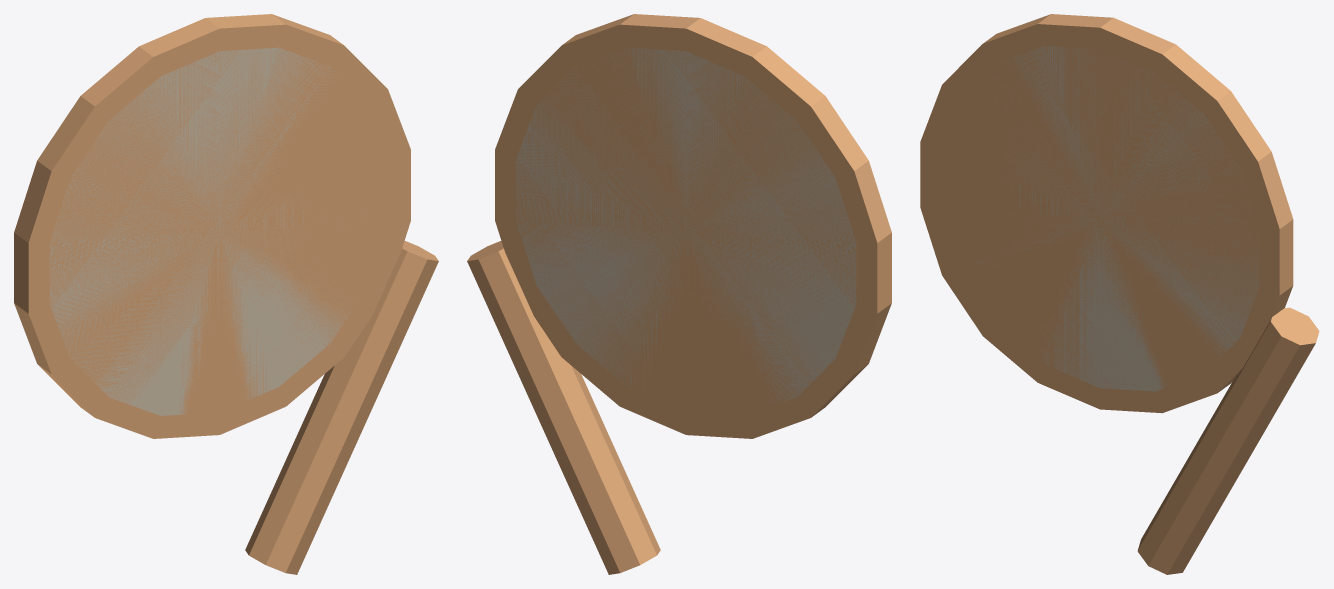
File: surveyLens.glb
3 renders of one model, left to right at view 1: azimuth 30°, elevation 25°; view 2: azimuth 150°, elevation 25°; view 3: azimuth 330°, elevation 25°, orthographic. The views are drawn at different scales.
Parts seen in each view (by area): view 1: LensRim, LensGlass, LensHandle; view 2: LensRim, LensGlass, LensHandle; view 3: LensRim, LensGlass, LensHandle.
Boxes of the visible parts, x1=… form: LensRim: x1=14, y1=14, x2=410, y2=438; LensGlass: x1=50, y1=48, x2=347, y2=415; LensHandle: x1=245, y1=241, x2=438, y2=574; LensRim: x1=495, y1=14, x2=891, y2=438; LensGlass: x1=516, y1=48, x2=855, y2=401; LensHandle: x1=467, y1=241, x2=660, y2=574; LensRim: x1=920, y1=14, x2=1293, y2=413; LensGlass: x1=979, y1=46, x2=1258, y2=391; LensHandle: x1=1137, y1=307, x2=1319, y2=574.
Size of the model in its own units: 0.5754 by 0.7519 by 0.07.
